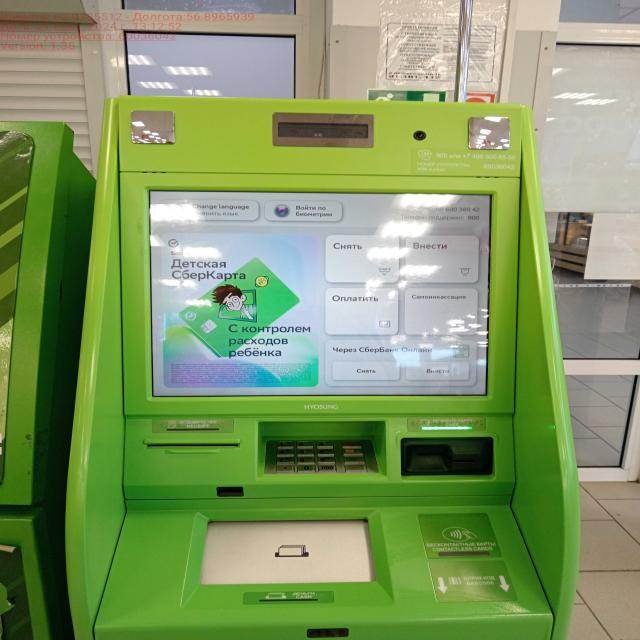bank: (69, 97, 576, 640)
